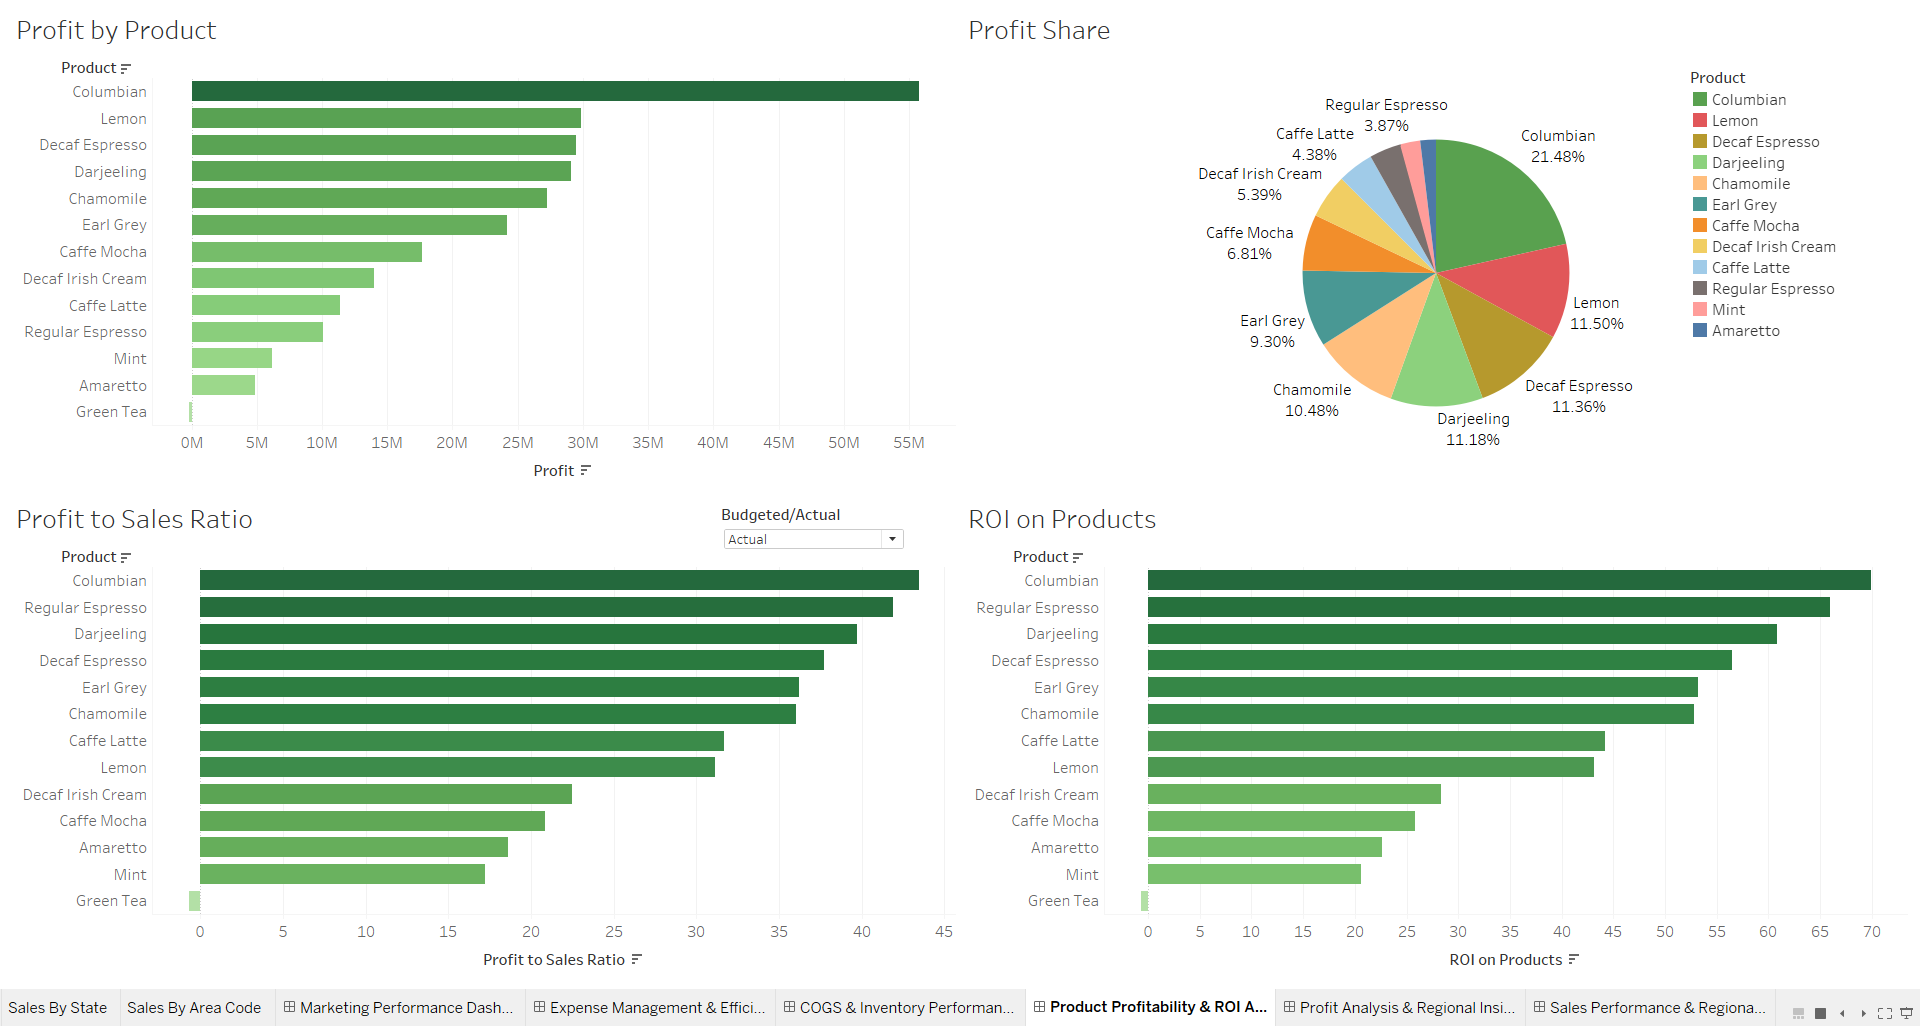

The dashboard page shown, as its layout file describes it:
{"tool":"tableau","page":{"name":"Product Profitability & ROI Analysis Dashboard","canvas":[1000,1000],"units":"permille","ordinal":3},"visuals":[{"type":"worksheet","title":"Profit by Product","mark":"Automatic","rows":["Product"],"cols":["Profit"],"box":[4.2,8.1,495.8,491.9]},{"type":"worksheet","title":"Profit Share","mark":"Pie","box":[500,8.1,495.8,491.9]},{"type":"legend","title":"Profit Share","param":"[federated.03toz571cx6otw1eec3mr0x40p7i].[none:Product:nk]","box":[880.1,71.2,92.1,342.1]},{"type":"worksheet","title":"Profit to Sales Ratio","mark":"Automatic","rows":["Product"],"cols":["Calculation_938156136791683099"],"box":[4.2,500,495.8,491.9]},{"type":"worksheet","title":"ROI on Products","mark":"Automatic","rows":["Product"],"cols":["Calculation_938156136792199196"],"box":[500,500,495.8,491.9]},{"type":"parameter","param":"[Parameters].[Parameter 1]","box":[375.5,511.9,96.9,59.9]}]}

Visuals, with their boxes on the dashboard's canvas, which has no fixed pixel size, in thousandths of its width and height (x1, y1, x2, y2). These are canvas units, not pixel positions in the 1920x1026 screenshot, which may show the page scaled, cropped or inside an application window:
"Profit by Product" worksheet: {"x1": 4, "y1": 8, "x2": 500, "y2": 500}
"Profit Share" worksheet (Pie marks): {"x1": 500, "y1": 8, "x2": 996, "y2": 500}
"Profit Share" legend: {"x1": 880, "y1": 71, "x2": 972, "y2": 413}
"Profit to Sales Ratio" worksheet: {"x1": 4, "y1": 500, "x2": 500, "y2": 992}
"ROI on Products" worksheet: {"x1": 500, "y1": 500, "x2": 996, "y2": 992}
parameter: {"x1": 376, "y1": 512, "x2": 472, "y2": 572}
